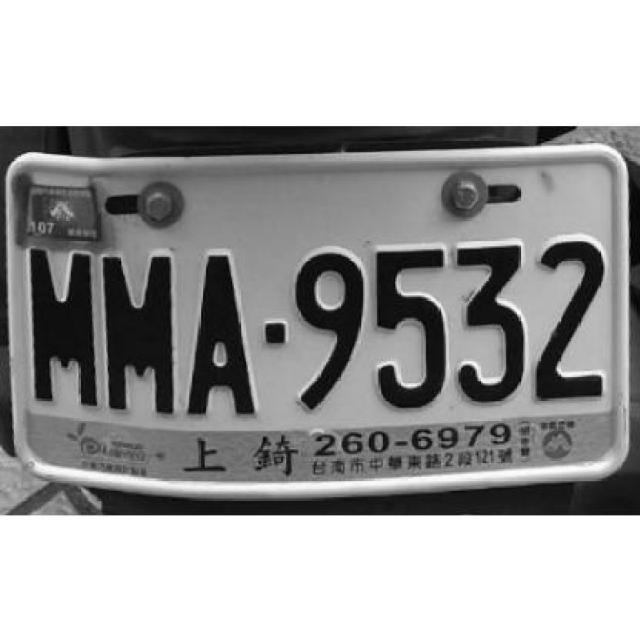-: (262, 316, 288, 346)
2: (529, 230, 608, 404)
3: (452, 237, 528, 405)
5: (369, 238, 451, 410)
9: (288, 237, 364, 414)
A: (183, 242, 255, 422)
M: (97, 243, 178, 419), (25, 242, 100, 410)
